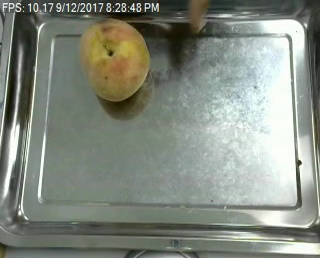Peach: (79, 18, 150, 102)
